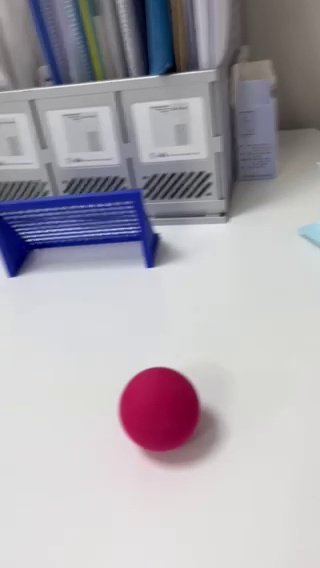goal: (0, 188, 159, 277)
redball: (117, 366, 199, 453)
